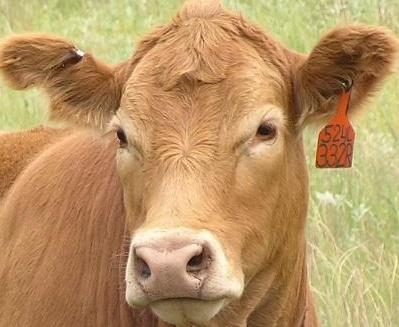muzzles: (118, 235, 243, 324)
